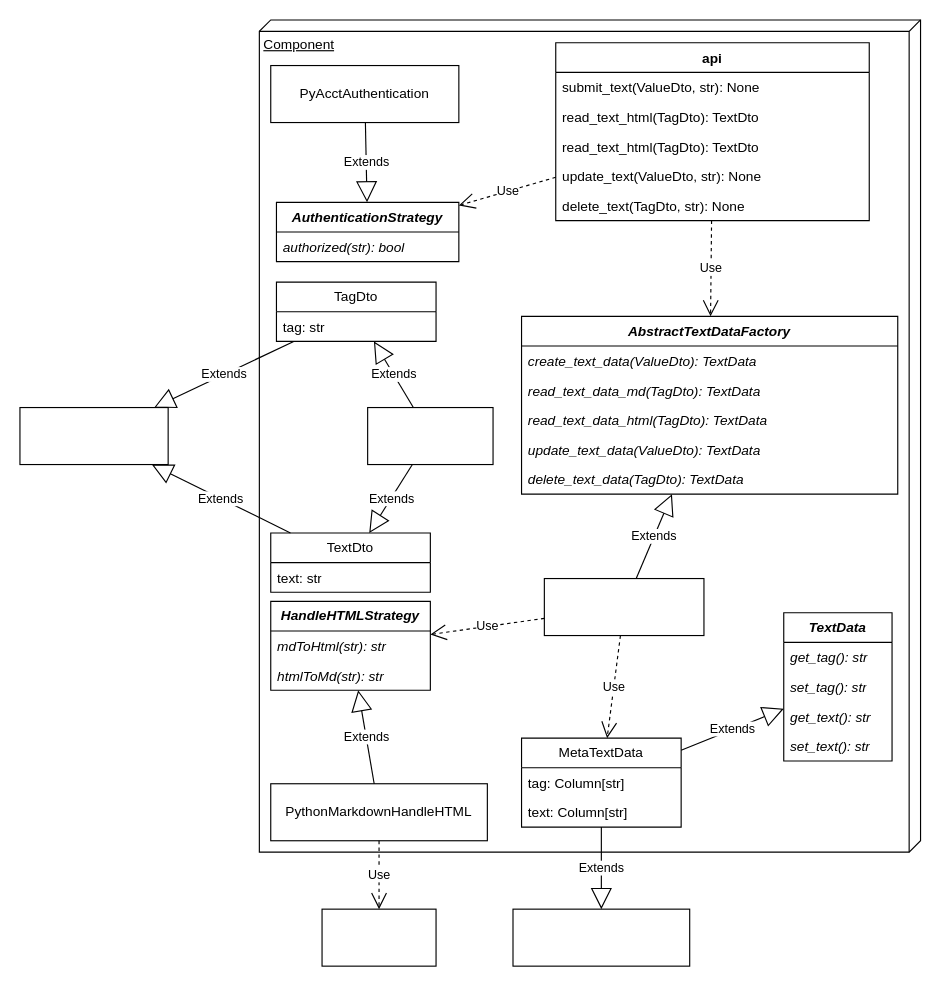
This 941x986 diagram has some shape labels left out. Each missing label, with the centre of its shape:
markdown: point 378,937
MetaTextDataFactory: point 623,606
Pydantic.BaseModel: point 93,435
SQLAlchemy.MetaData: point 601,937
ValueDto: point 430,435
